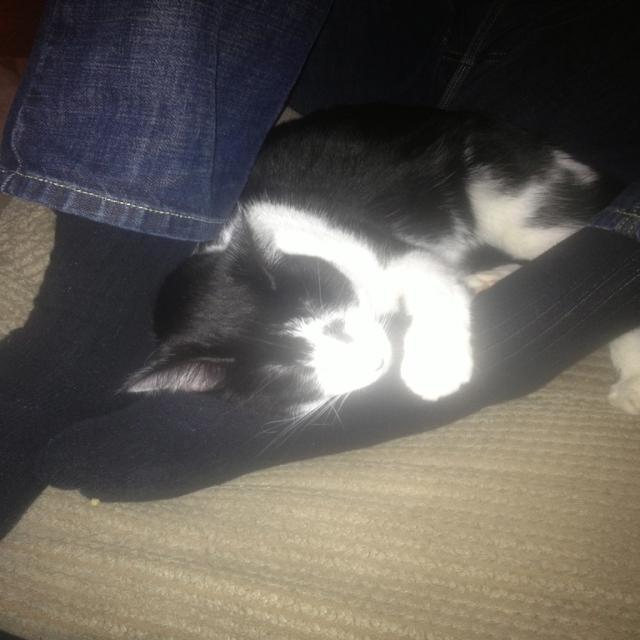Cat: (109, 94, 638, 434)
